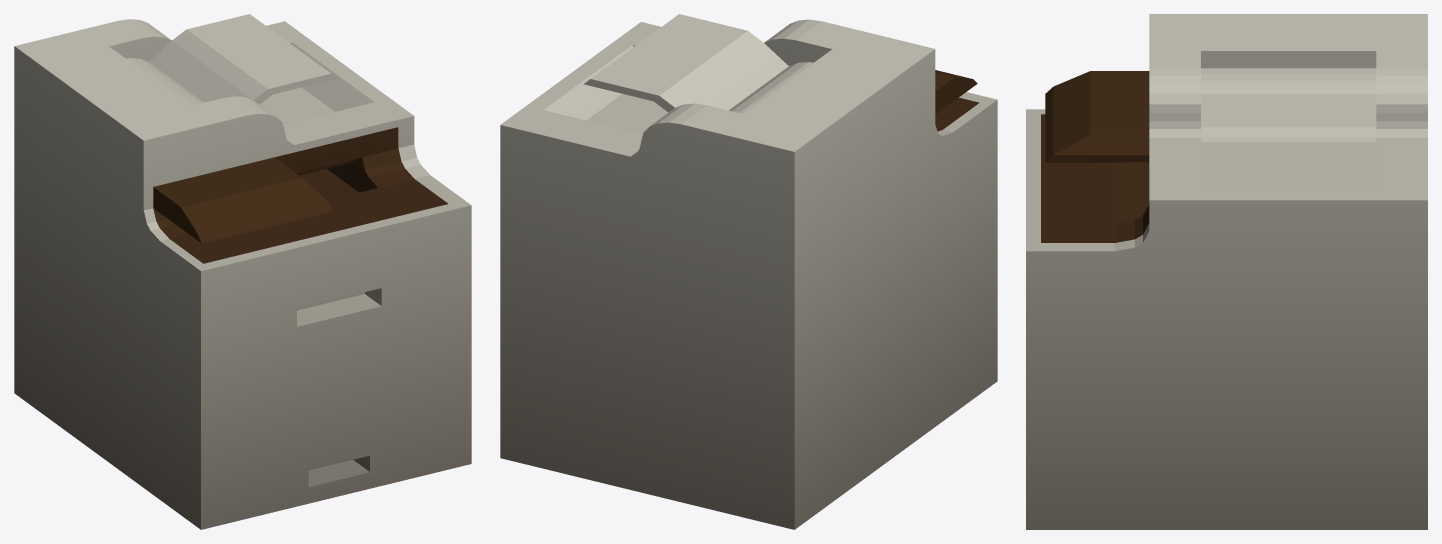
Rendered from printer.glb.
3 renders of one model, left to right at view 1: azimuth 30°, elevation 25°; view 2: azimuth 150°, elevation 25°; view 3: azimuth 270°, elevation 25°, orthographic. The views are drawn at different scales.
Visible parts, largest first — view 1: Cube; view 2: Cube; view 3: Cube.
Boxes of the visible parts, left/top/right/bottom form: Cube: left=14, top=14, right=471, bottom=529; Cube: left=500, top=14, right=997, bottom=529; Cube: left=1026, top=14, right=1427, bottom=529.
Size of the model in its own units: 0.44 by 0.54 by 0.526.
Materials: 1 (1 with a texture image).
